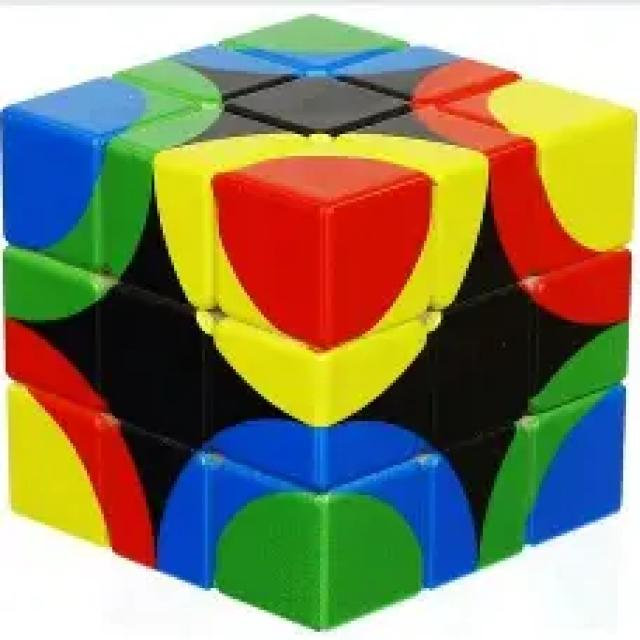Rubiks Cube: (2, 12, 635, 632)
